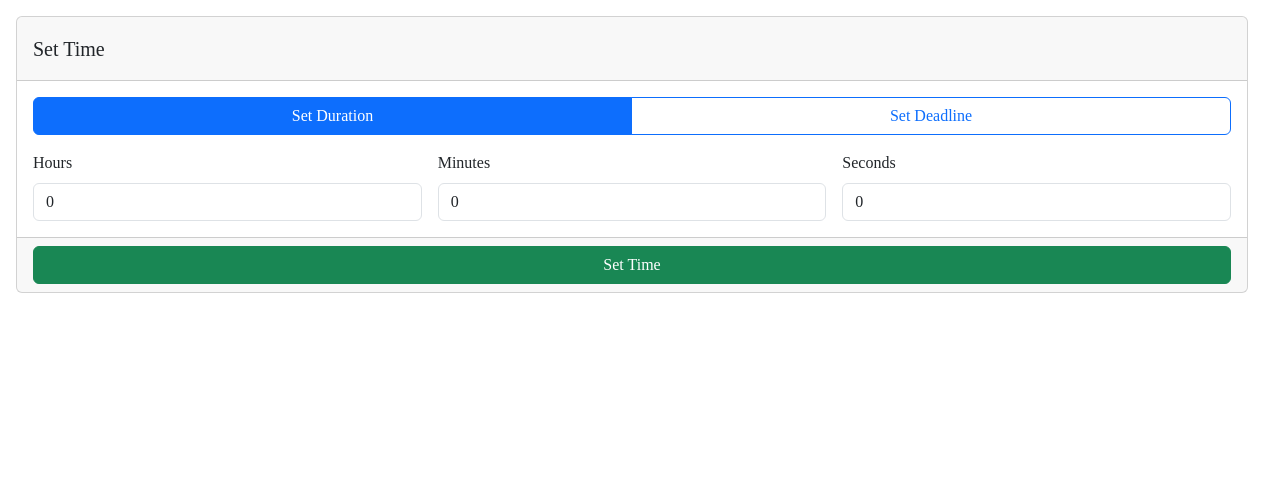
it: Home Page › should show reset button after time is set
Note: Find and trigger the TimeSetup component
Click the button "Set Time" at (632,265), box [33,246,1231,284]
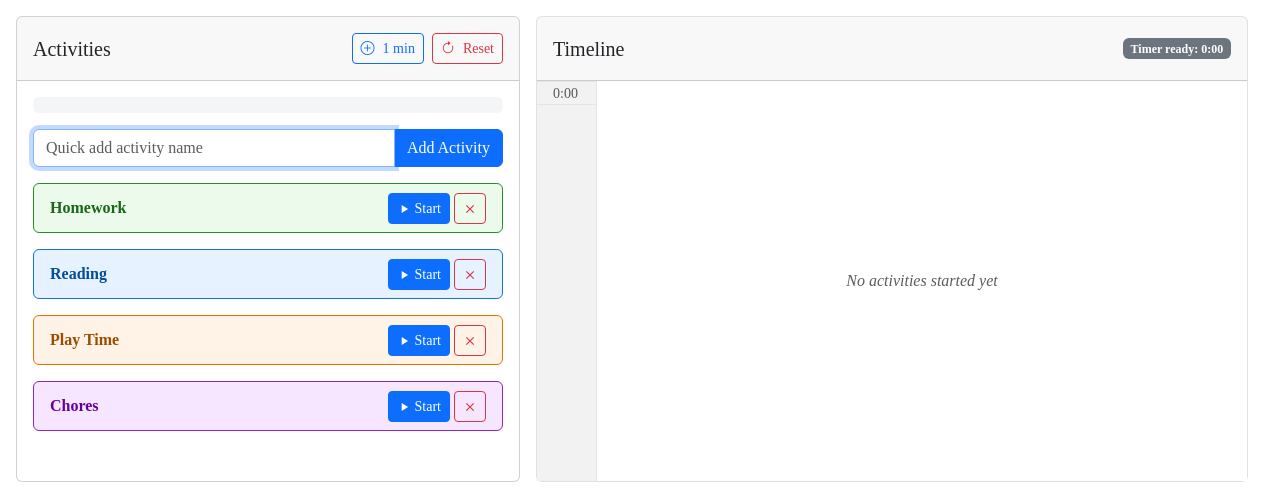
Check: the button "Reset" is shown, box [432,33,503,64]
